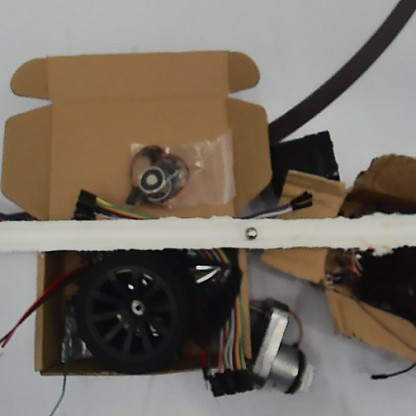ironball: (243, 223, 259, 242)
